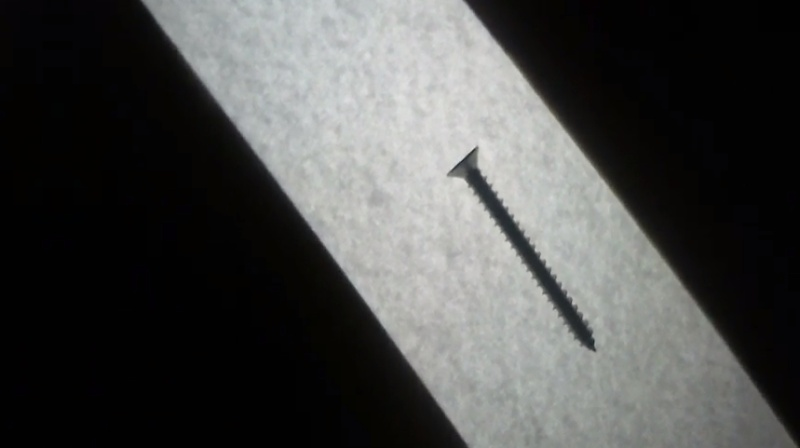S002: (442, 142, 601, 357)
